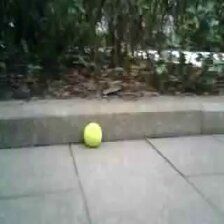tennis: (83, 123, 101, 145)
